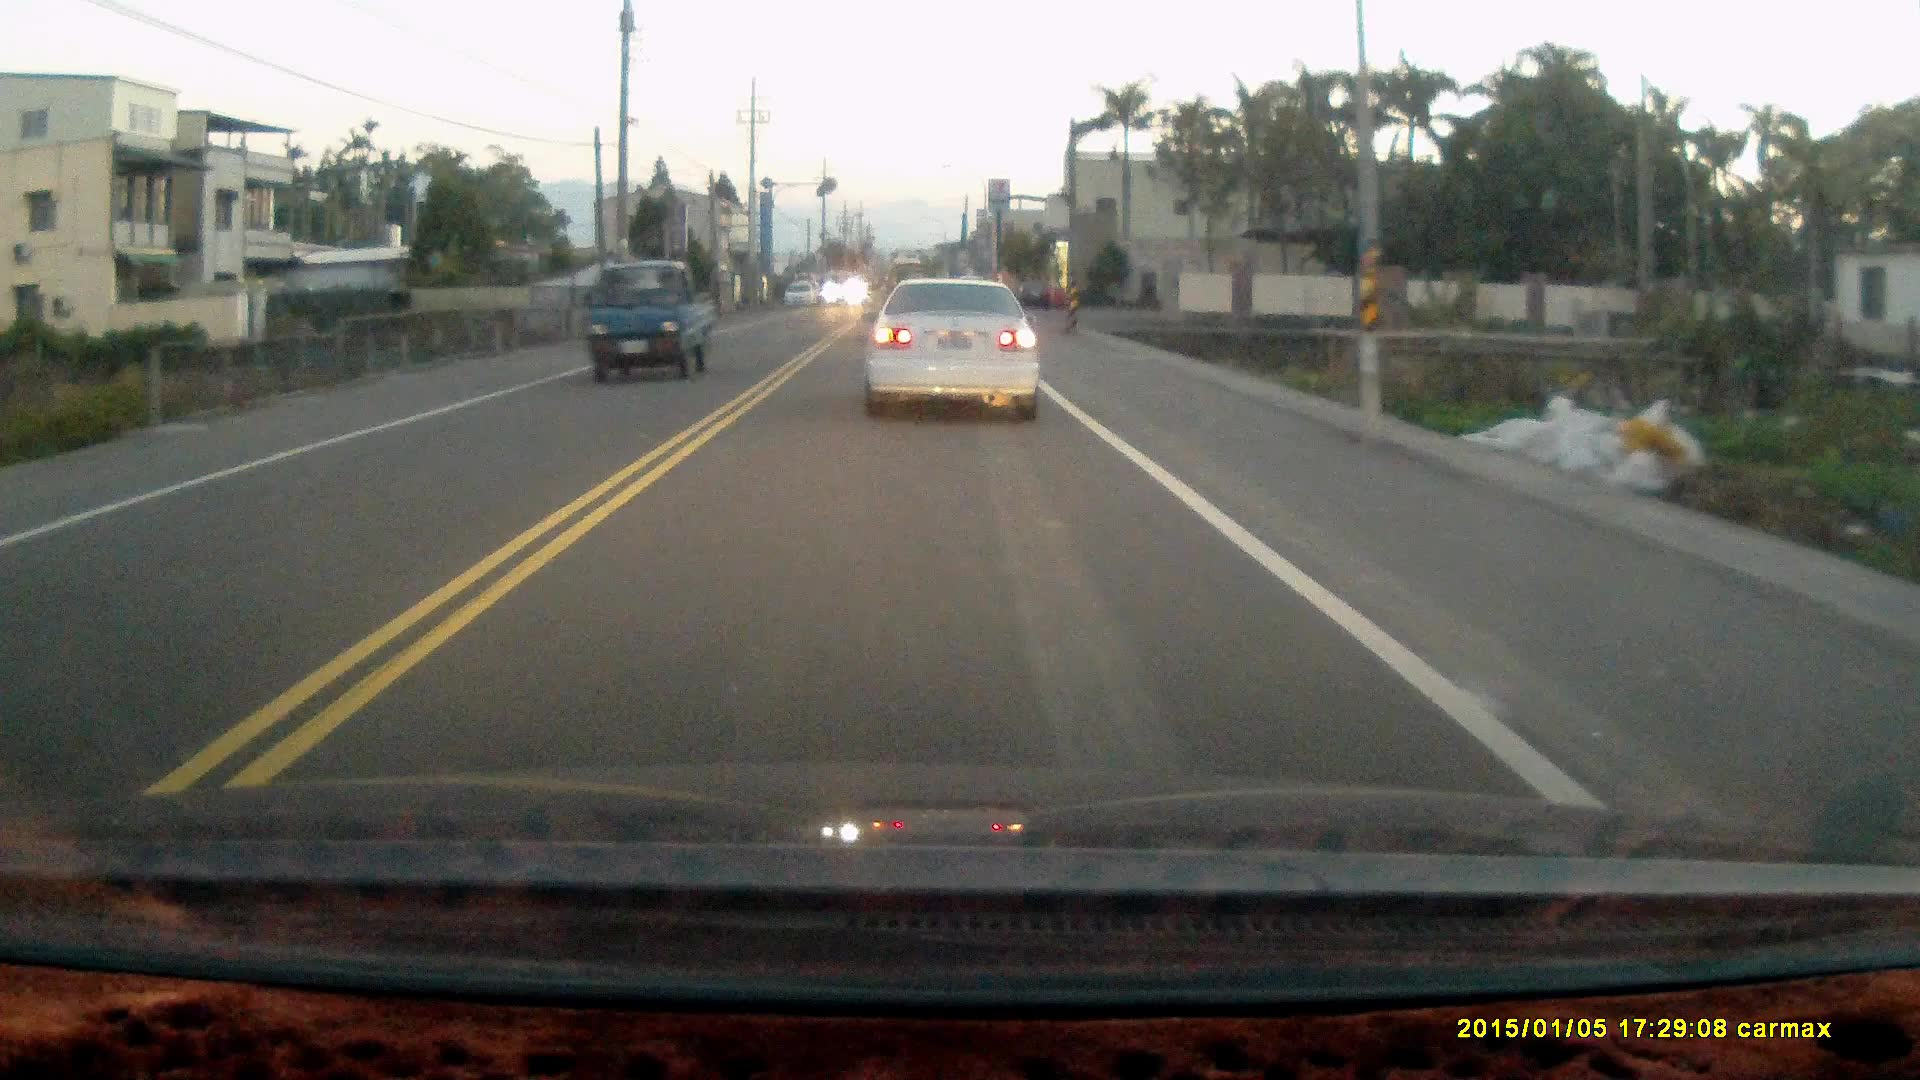vehicle: (868, 276, 1046, 429), (585, 258, 709, 385), (825, 269, 861, 306), (783, 281, 818, 309)
